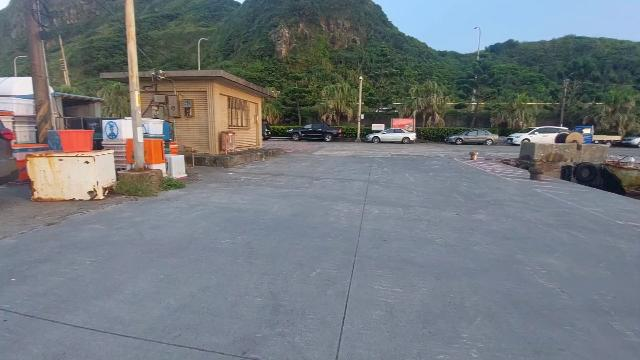pollute: (9, 143, 49, 186), (103, 118, 132, 169), (47, 129, 95, 150), (145, 140, 167, 177), (165, 155, 187, 180), (141, 118, 165, 138), (126, 139, 134, 171), (169, 142, 178, 154)
